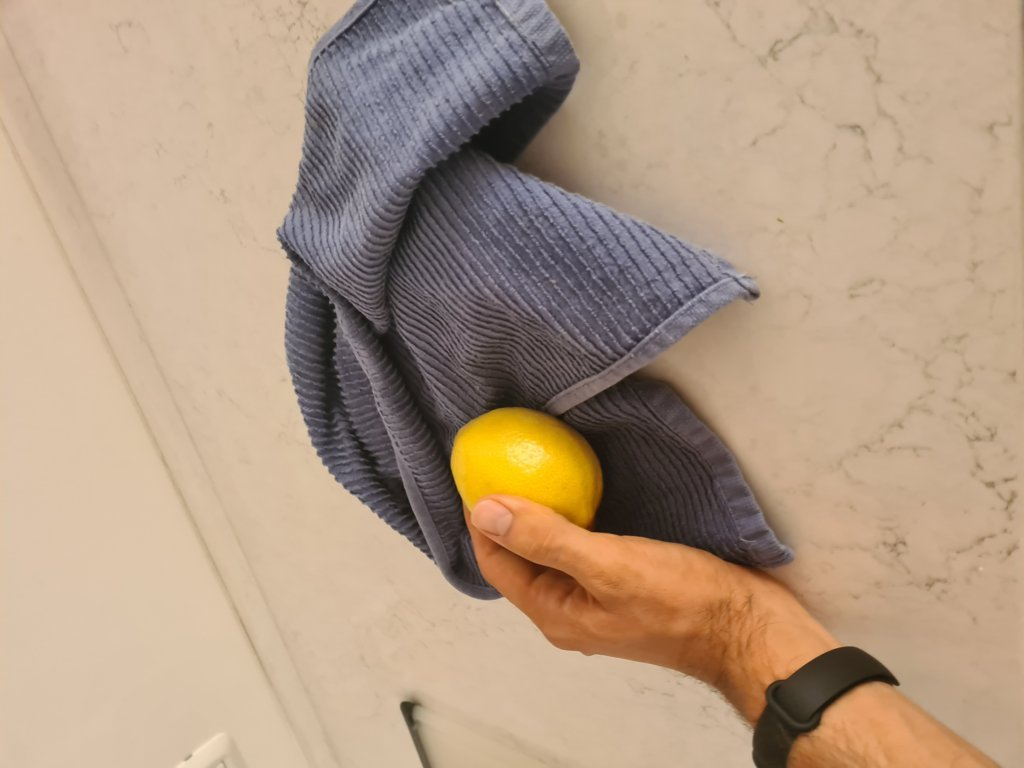lemon: (452, 406, 610, 556)
